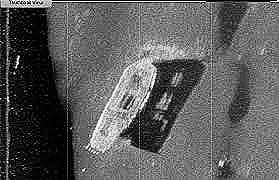ship: (85, 57, 158, 153)
